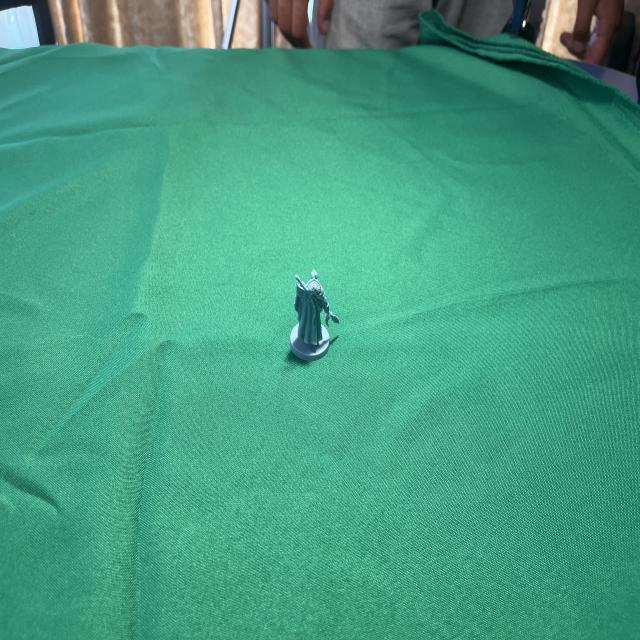isis_follower: (284, 269, 336, 364)
